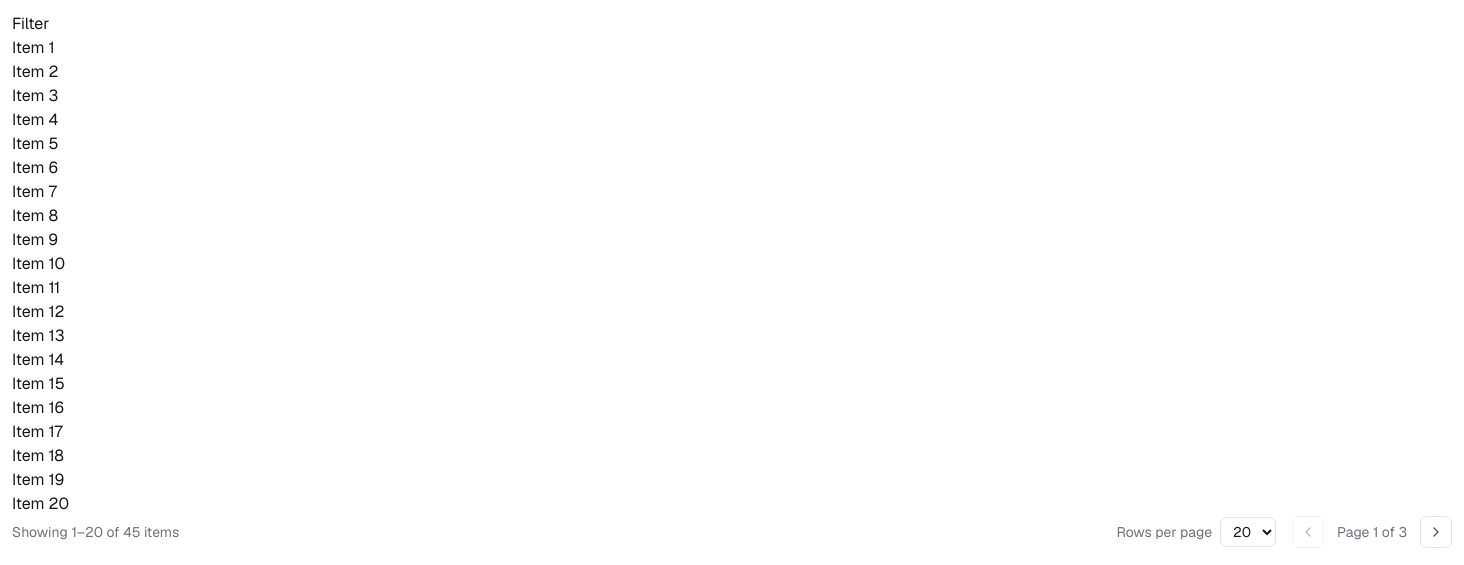
Scenario: PaginatedList › shows 20 per page by default and pages forward
Expected: the text "Showing 1–20 of 45 items" is shown, [12,522,179,542]
Click the button named "Next page": (1436, 532) [1420,516,1452,548]
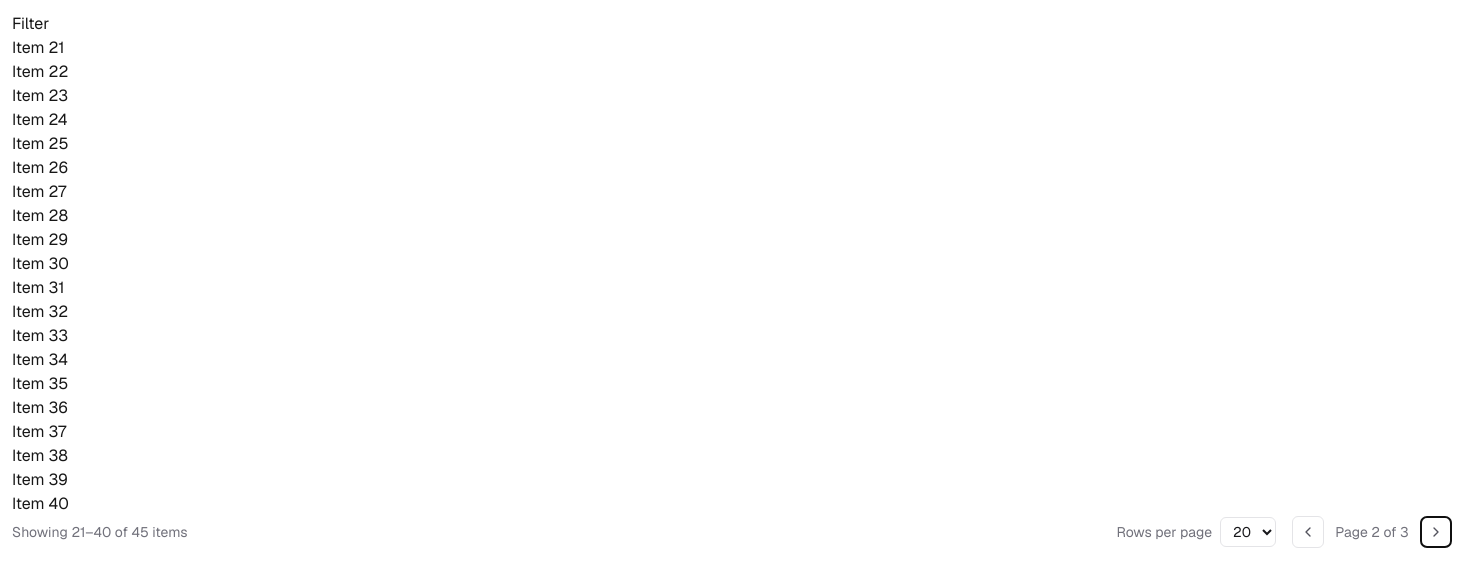
Expected: the button named "Previous page" is enabled, [1292,516,1324,548]
Expected: the list item "Item 21" is shown, [12,37,64,58]
Expected: the text "Page 2 of 3" is shown, [1332,522,1412,542]
